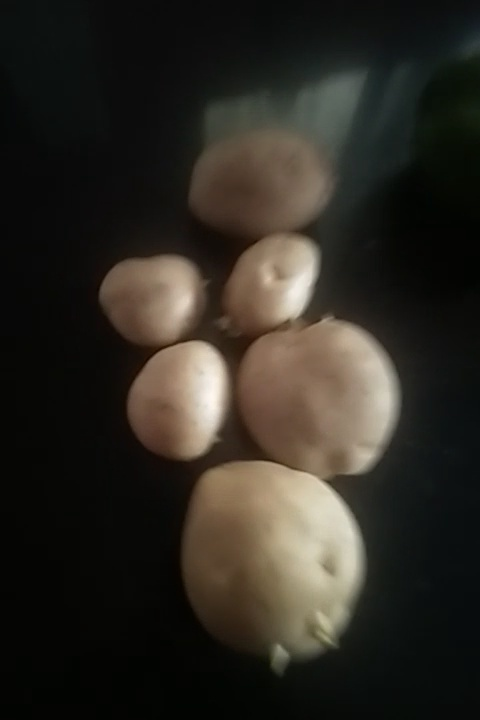potato: (179, 455, 380, 658), (235, 316, 401, 479), (190, 132, 346, 229), (130, 345, 227, 458), (211, 243, 315, 334), (104, 247, 203, 340)
